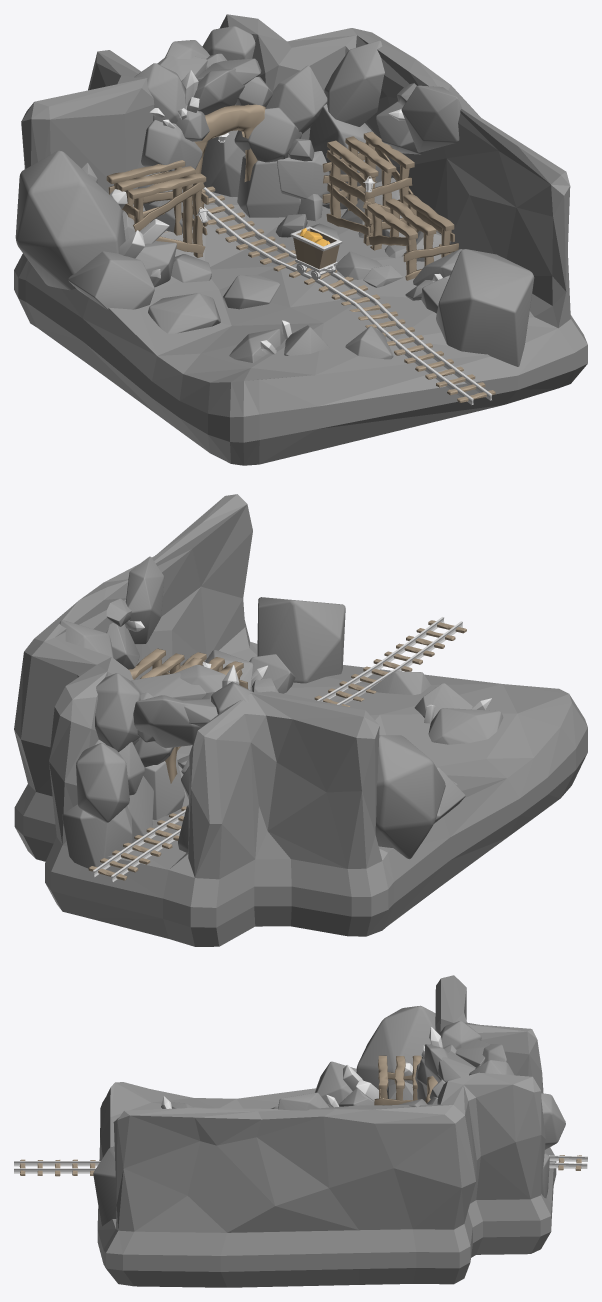
The model's file is MineCave.fbx.
The picture shows the model from 3 angles, top to bottom: view 1: azimuth 30°, elevation 25°; view 2: azimuth 150°, elevation 25°; view 3: azimuth 270°, elevation 25°; orthographic projection. The views are drawn at different scales.
Parts seen in each view (by area): view 1: Plane, Rcok1.001, Rock3.032, Rail, Wood.001, Wood.004, Wood.002, Rock3.022, Rock3.001, Rock3.020, Rock2.003, Rock3.023 (+28 smaller); view 2: Plane, Rcok1.001, Rock3.032, Rail, Rcok1.014, Rock2.007, Rcok1.013, Rcok1.012, Rock3.020, Rock3.012, Rock2.003, Rock3.006 (+14 smaller); view 3: Plane, Rcok1.001, Rail, Wood.004, Rock3.032, Rock3.001, Rcok1.014, Rcok1.008, Rock3.006, Rock3.020, Rock3.007, Rcok1.006 (+1 smaller).
Boxes of the visible parts, left/top/right/bottom form: Plane: left=14, top=14, right=587, bottom=465; Rcok1.001: left=15, top=150, right=125, bottom=290; Rock3.032: left=436, top=249, right=534, bottom=366; Rail: left=202, top=182, right=495, bottom=404; Wood.001: left=322, top=131, right=414, bottom=245; Wood.004: left=106, top=160, right=208, bottom=257; Wood.002: left=367, top=194, right=458, bottom=280; Rock3.022: left=324, top=40, right=384, bottom=126; Rock3.001: left=68, top=251, right=154, bottom=309; Rock3.020: left=401, top=85, right=461, bottom=152; Rock2.003: left=237, top=155, right=300, bottom=217; Rock3.023: left=265, top=65, right=327, bottom=133; Plane: left=14, top=494, right=587, bottom=946; Rcok1.001: left=375, top=735, right=445, bottom=859; Rock3.032: left=257, top=597, right=345, bottom=683; Rail: left=88, top=617, right=466, bottom=882; Rcok1.014: left=76, top=743, right=129, bottom=823; Rock2.007: left=62, top=804, right=132, bottom=868; Rcok1.013: left=95, top=673, right=140, bottom=751; Rcok1.012: left=133, top=695, right=201, bottom=748; Rock3.020: left=126, top=556, right=164, bottom=644; Rock3.012: left=428, top=708, right=503, bottom=744; Rock2.003: left=143, top=756, right=184, bottom=819; Rock3.006: left=131, top=672, right=206, bottom=698; Plane: left=97, top=975, right=556, bottom=1287; Rcok1.001: left=356, top=1005, right=435, bottom=1090; Rail: left=14, top=1155, right=587, bottom=1176; Wood.004: left=374, top=1055, right=421, bottom=1105; Rock3.032: left=93, top=1146, right=116, bottom=1226; Rock3.001: left=315, top=1061, right=356, bottom=1107; Rcok1.014: left=541, top=1093, right=565, bottom=1149; Rcok1.008: left=439, top=1021, right=481, bottom=1049; Rock3.006: left=437, top=1051, right=475, bottom=1082; Rock3.020: left=278, top=1092, right=329, bottom=1110; Rock3.007: left=455, top=1039, right=489, bottom=1067; Rcok1.006: left=424, top=1044, right=448, bottom=1082.
Size of the model in its own units: 4294 by 2289 by 6572.
